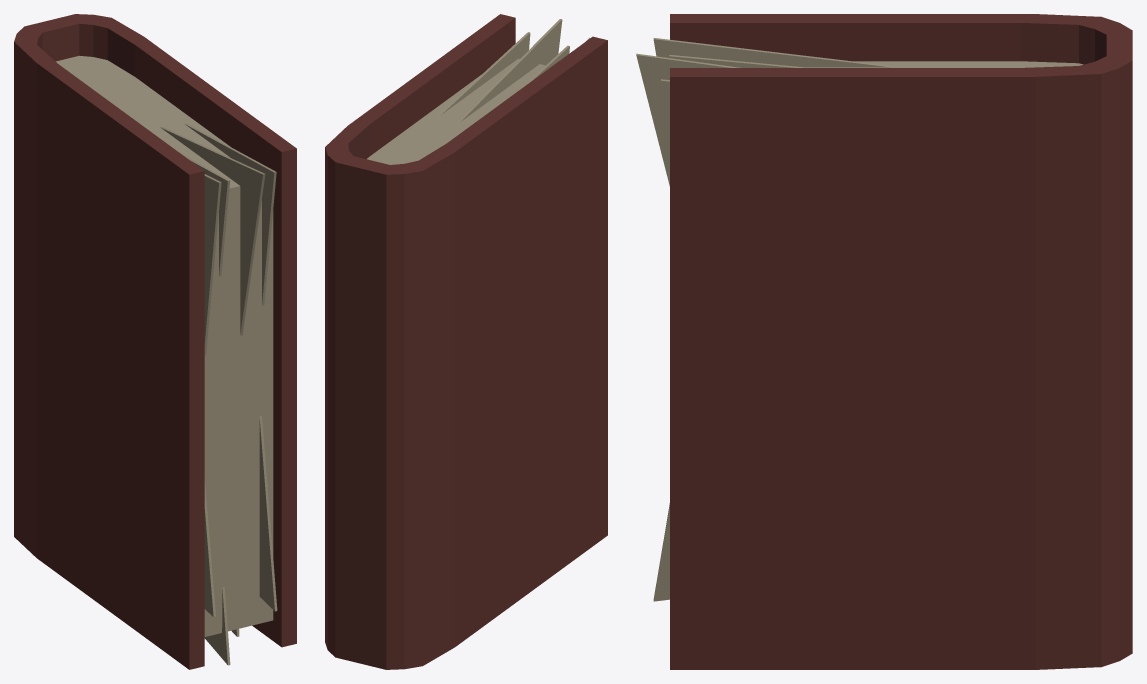
Rendered from Book1 Closed.glb.
The picture shows the model from 3 angles, left to right: view 1: azimuth 30°, elevation 25°; view 2: azimuth 150°, elevation 25°; view 3: azimuth 270°, elevation 25°; orthographic projection. The views are drawn at different scales.
Visible parts, largest first — view 1: Book1_Closed; view 2: Book1_Closed; view 3: Book1_Closed.
Boxes of the visible parts, <box> form: Book1_Closed: <box>14,14,296,669</box>; Book1_Closed: <box>325,14,607,669</box>; Book1_Closed: <box>636,14,1132,669</box>.
Size of the model in its own units: 0.0718 by 0.3208 by 0.2397.
